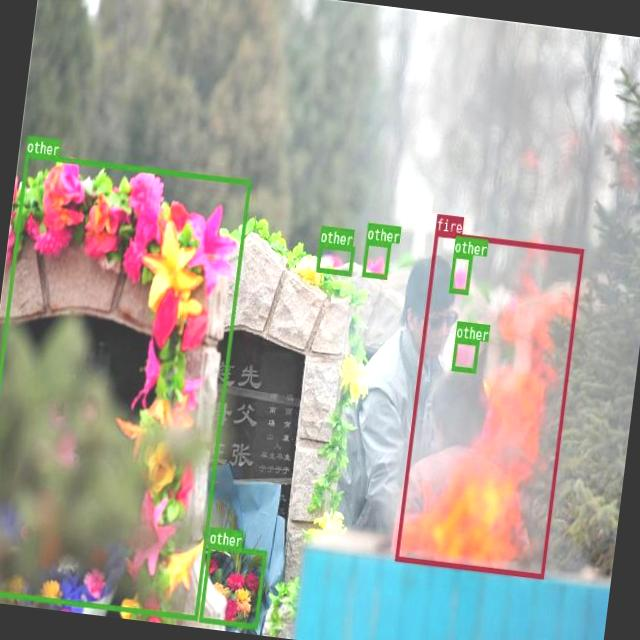fire: (394, 230, 583, 578)
